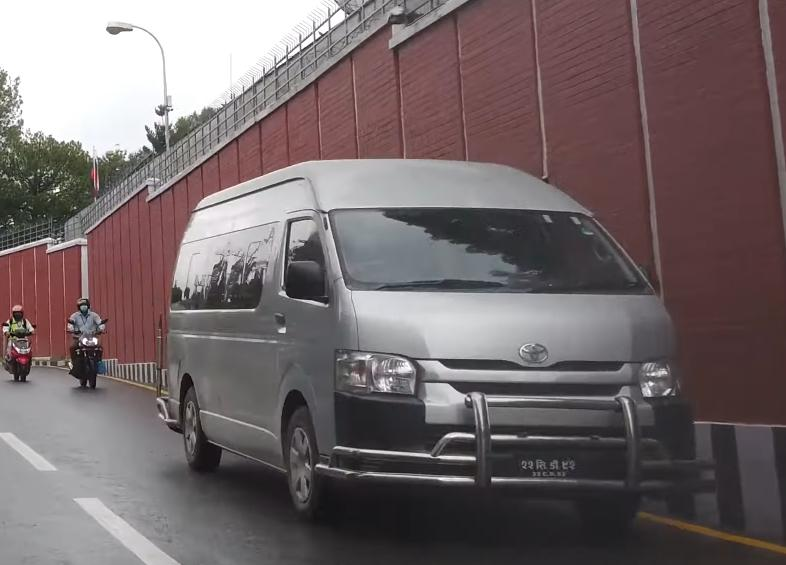bike: (67, 315, 111, 393)
micro_bus: (156, 142, 708, 546)
scooter: (5, 323, 37, 384)
